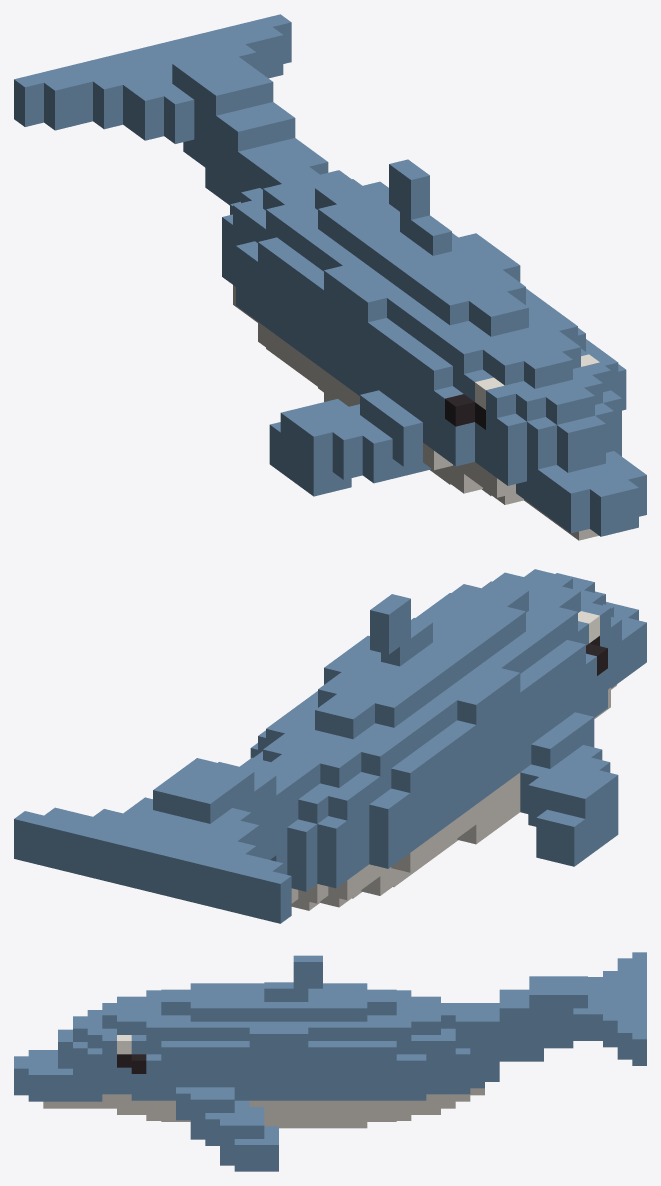
The model's file is dolphin.glb.
3 renders of one model, top to bottom at view 1: azimuth 30°, elevation 25°; view 2: azimuth 150°, elevation 25°; view 3: azimuth 270°, elevation 25°, orthographic. The views are drawn at different scales.
Visible parts, largest first — view 1: dolphin; view 2: dolphin; view 3: dolphin.
Boxes of the visible parts, left/top/right/bottom form: dolphin: left=14, top=14, right=646, bottom=540; dolphin: left=14, top=569, right=646, bottom=923; dolphin: left=14, top=952, right=646, bottom=1171.
Size of the model in its own units: 1.7 by 1.2 by 4.3.
1 material, 1 textured.
